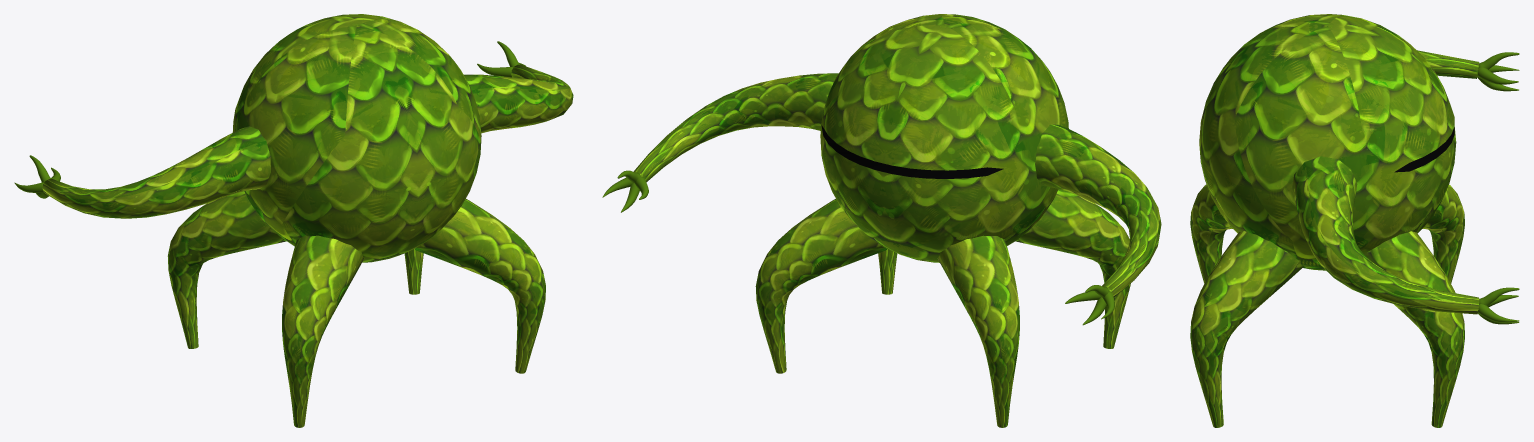
Rendered from Player.fbx.
3 renders of one model, left to right at view 1: azimuth 30°, elevation 25°; view 2: azimuth 150°, elevation 25°; view 3: azimuth 270°, elevation 25°, orthographic. The views are drawn at different scales.
Visible parts, largest first — view 1: Robot, BézierCurve, BézierCurve.001; view 2: Robot, BézierCurve, BézierCurve.001; view 3: Robot, BézierCurve, BézierCurve.001.
Boxes of the visible parts, <box> form: Robot: <box>232,14,481,262</box>; BézierCurve: <box>167,191,545,427</box>; BézierCurve.001: <box>14,41,573,218</box>; Robot: <box>820,14,1068,262</box>; BézierCurve: <box>755,189,1130,427</box>; BézierCurve.001: <box>602,73,1161,325</box>; Robot: <box>1199,14,1456,270</box>; BézierCurve: <box>1190,184,1464,427</box>; BézierCurve.001: <box>1292,50,1519,324</box>.
Size of the model in its own units: 4.66 by 2.96 by 2.56.
2 materials, 1 textured.
